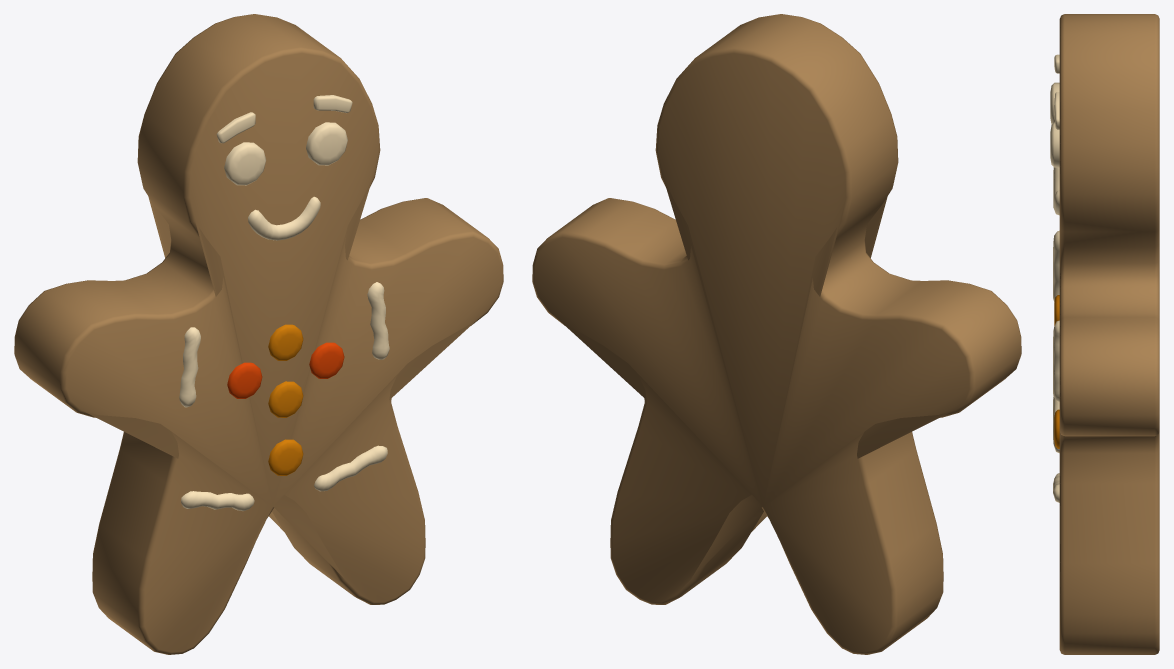
The model's file is Ginger Cake.fbx.
3 views of the same model, side by side, from view 1: azimuth 30°, elevation 25°; view 2: azimuth 150°, elevation 25°; view 3: azimuth 270°, elevation 25° (orthographic).
Parts seen in each view (by area): view 1: Ginger Cake; view 2: Ginger Cake; view 3: Ginger Cake.
Boxes of the visible parts, bbox=[...] form: Ginger Cake: bbox=[14, 14, 503, 654]; Ginger Cake: bbox=[532, 14, 1021, 654]; Ginger Cake: bbox=[1050, 14, 1159, 654].
Size of the model in its own units: 0.1448 by 0.1809 by 0.031.
